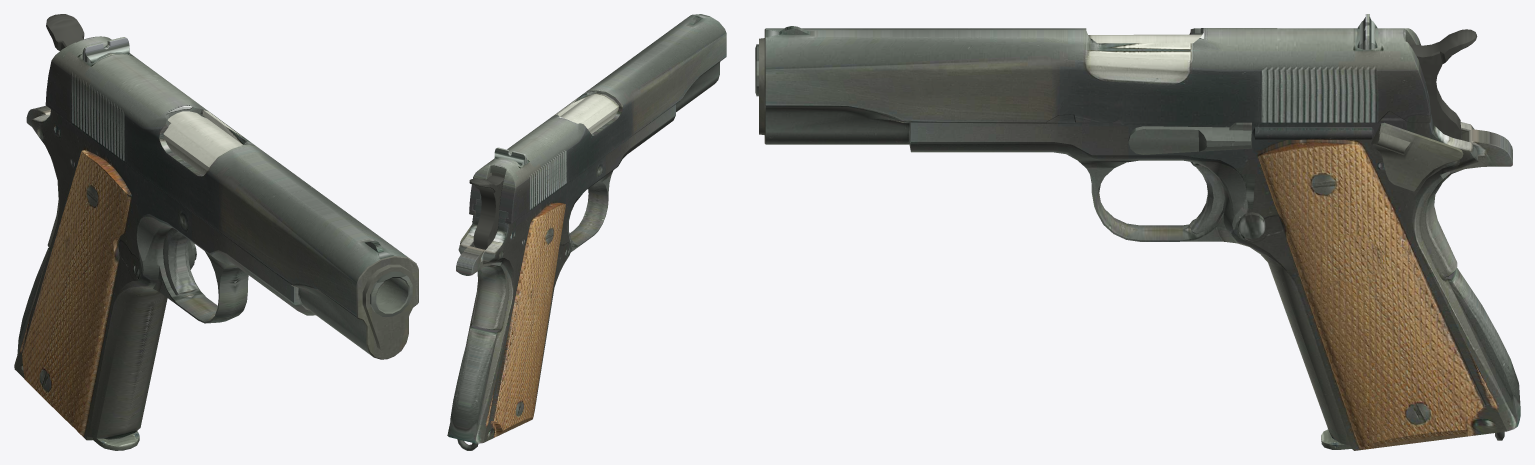
The picture shows the model from 3 angles, left to right: view 1: azimuth 30°, elevation 25°; view 2: azimuth 150°, elevation 25°; view 3: azimuth 270°, elevation 25°; orthographic projection. The views are drawn at different scales.
Parts seen in each view (by area): view 1: Colt_Pistol NEW2; view 2: Colt_Pistol NEW2; view 3: Colt_Pistol NEW2.
Part boxes in pixels (<box>): Colt_Pistol NEW2: <box>14,14,418,450</box>; Colt_Pistol NEW2: <box>447,14,726,450</box>; Colt_Pistol NEW2: <box>755,14,1520,450</box>.
Bounding box in the file's own units: 2.72 × 13.08 × 21.69.
Materials: 1 (1 with a texture image).
